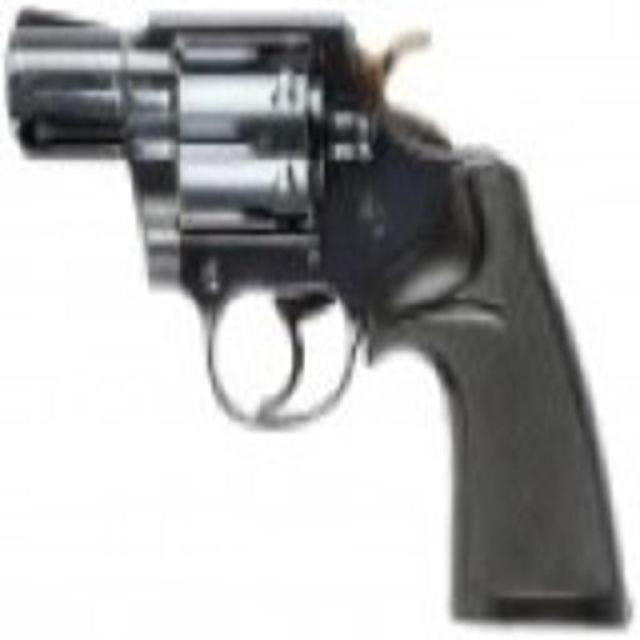pistol: (15, 15, 624, 612)
